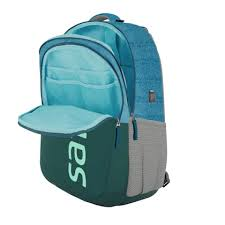backpack: (17, 12, 170, 207)
